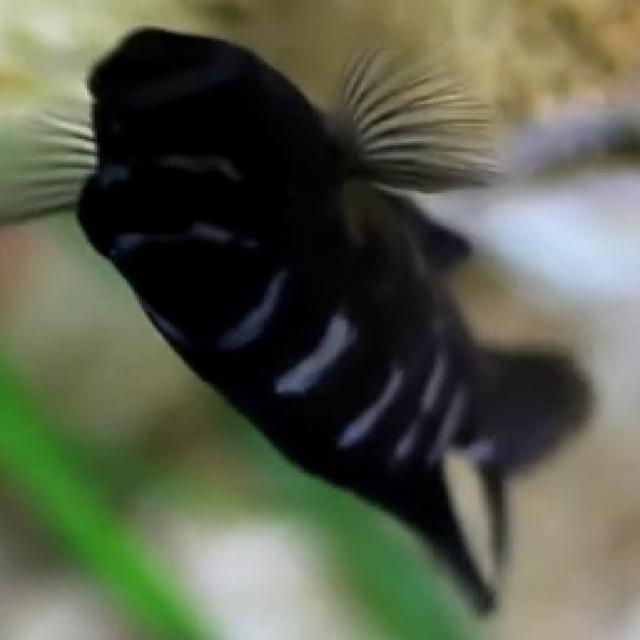fish: (2, 0, 640, 638)
